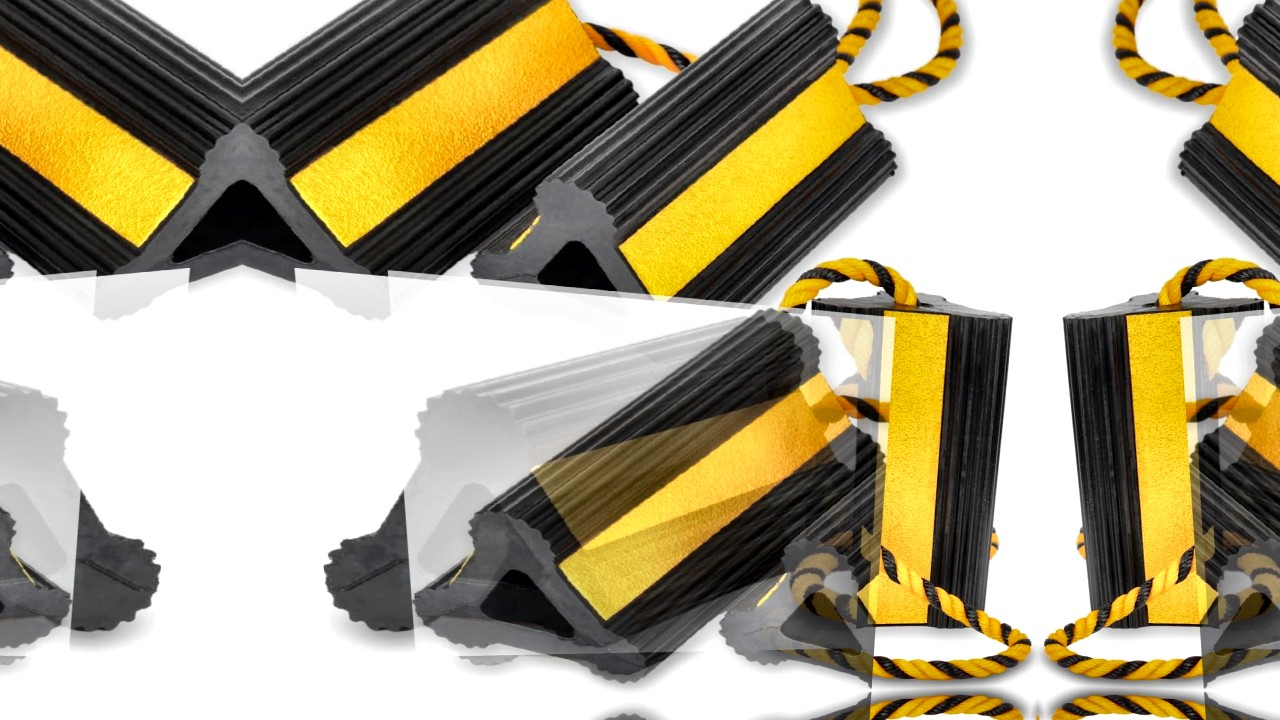chock: (278, 267, 875, 674), (369, 269, 896, 717), (438, 0, 908, 389), (242, 0, 655, 356), (421, 431, 817, 695), (0, 0, 242, 356), (0, 267, 206, 674), (795, 280, 1026, 638), (1050, 280, 1280, 638), (0, 269, 115, 717), (1180, 269, 1280, 717), (1168, 0, 1280, 389), (1201, 267, 1280, 674), (0, 431, 63, 695)
